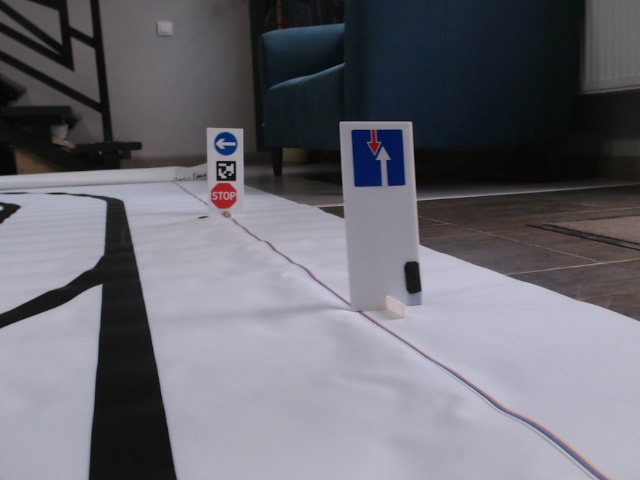Stop: (210, 181, 237, 209)
priority_movement: (351, 129, 408, 187)
